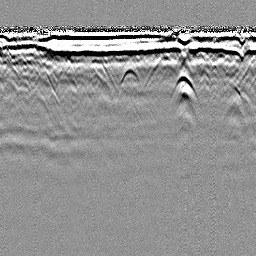cavity: (118, 62, 140, 84)
